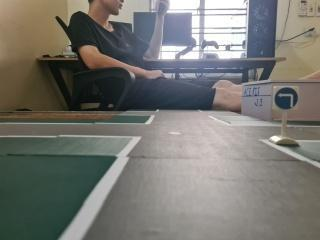left: (270, 82, 303, 114)
